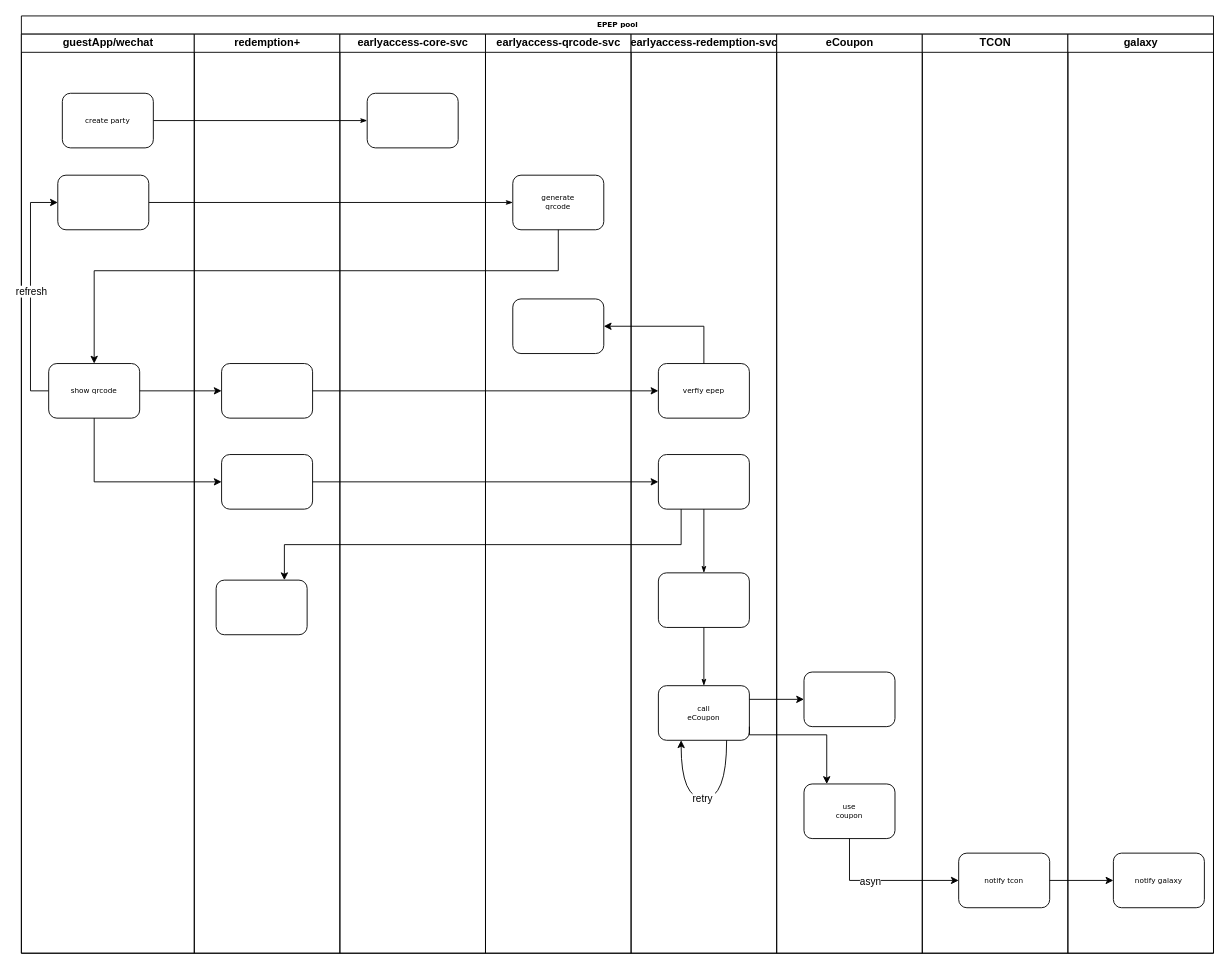
Image size: 1229x969. Some labels were removed from this diagram. The shapes that lost their labels are listed below. From the top down, each one's box as (x1, y1, x2, y2) in pixels, then its label:
(366, 92, 458, 148): /eligible/check-eligibility
(57, 174, 149, 230): fetch qrcode
(512, 298, 604, 354): verfiy qrcode
(221, 363, 313, 418): verfiy (scan)
(221, 454, 313, 509): redeem (scan)
(657, 454, 749, 509): redeem epep
(215, 579, 307, 635): result
(657, 572, 749, 627): redemption _item_queue
(803, 671, 895, 727): lock coupon
